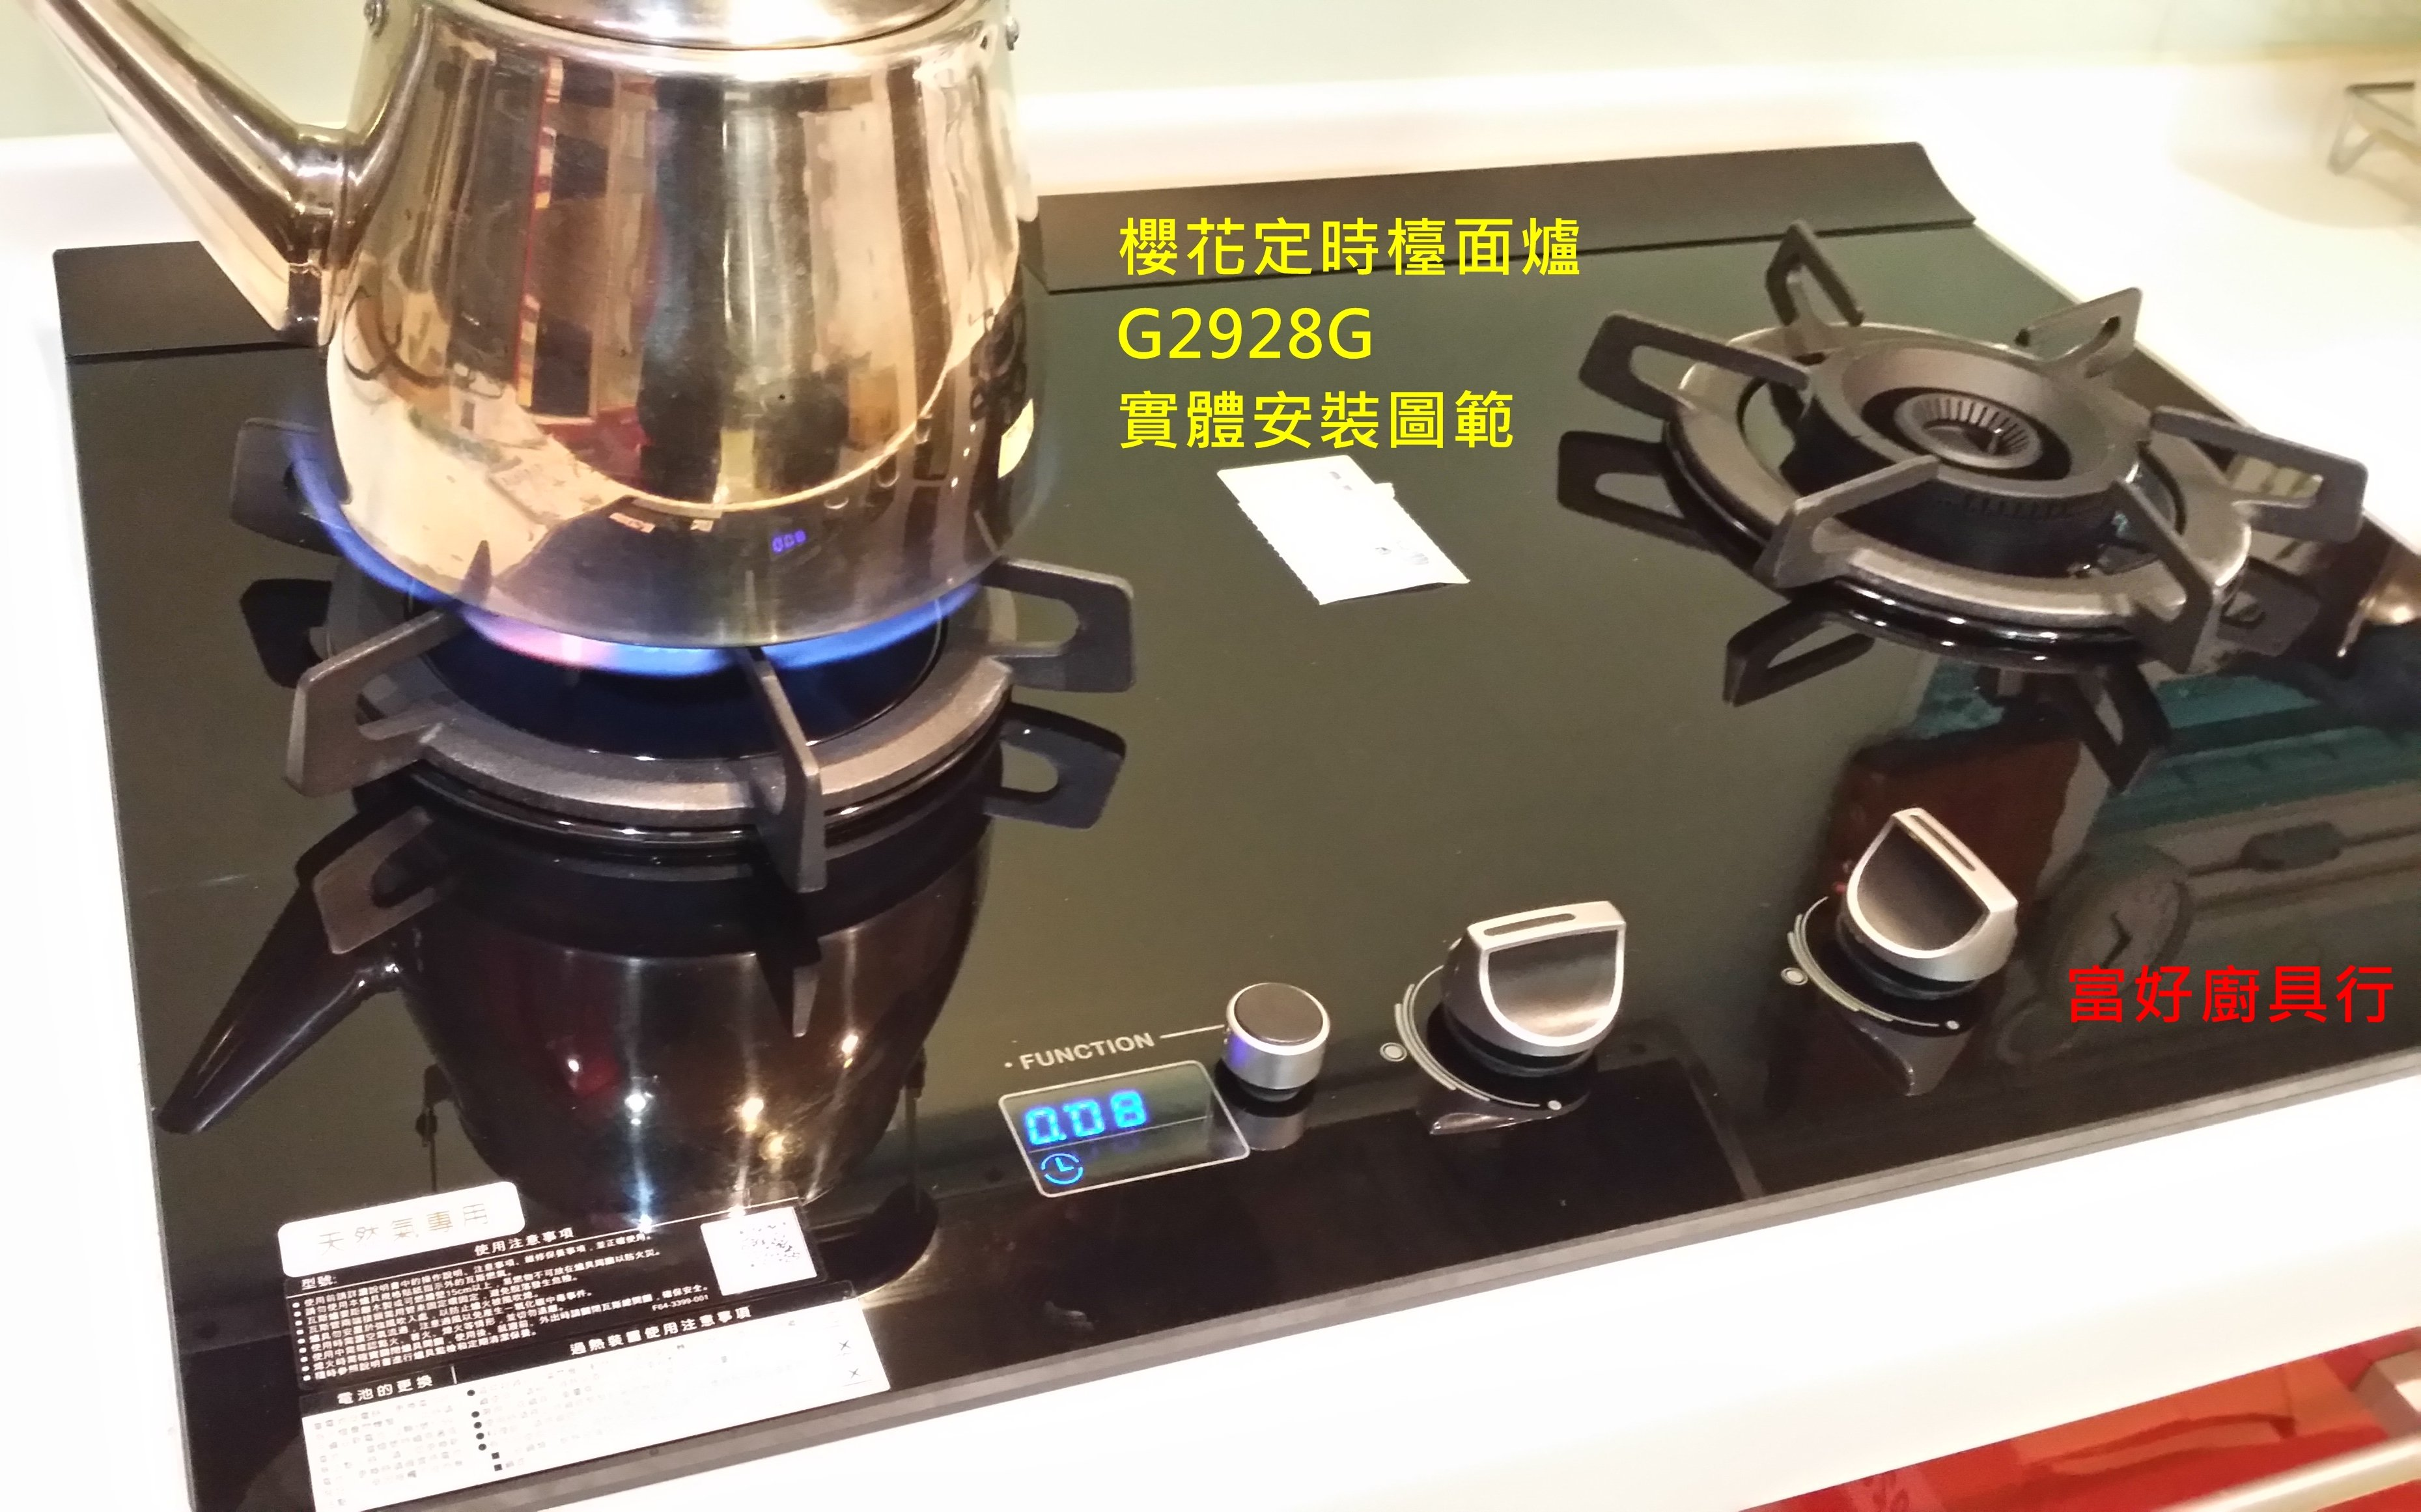gasoven: (26, 195, 2411, 1510)
